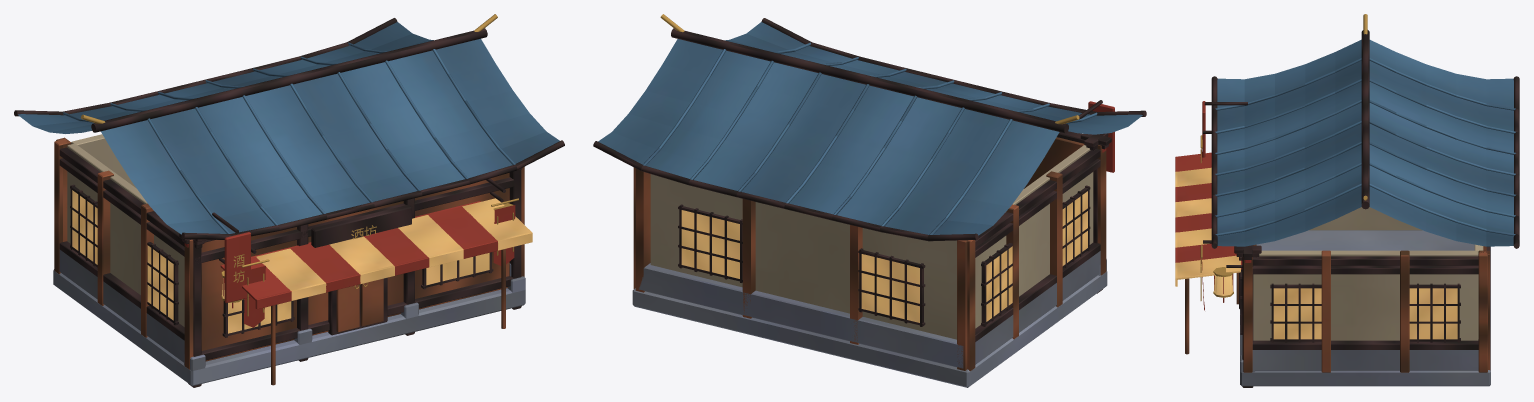
The model's file is model-shop-03.glb.
3 views of the same model, side by side, from view 1: azimuth 30°, elevation 25°; view 2: azimuth 150°, elevation 25°; view 3: azimuth 270°, elevation 25° (orthographic). The views are drawn at different scales.
Parts seen in each view (by area): view 1: model-shop-03; view 2: model-shop-03; view 3: model-shop-03.
Part boxes in pixels (x1,y1,x2,y2): model-shop-03: [14, 14, 564, 387]; model-shop-03: [593, 14, 1146, 387]; model-shop-03: [1175, 14, 1519, 387].
Size of the model in its own units: 11.05 by 5.94 by 8.78.
Materials: 9 (9 with a texture image).
